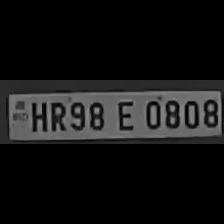0: (140, 96, 162, 130), (180, 97, 200, 128)
8: (85, 99, 107, 131), (162, 97, 180, 129), (200, 96, 218, 128)
9: (66, 98, 86, 132)
E: (112, 98, 136, 132)
H: (27, 98, 47, 132)
R: (46, 98, 66, 132)
